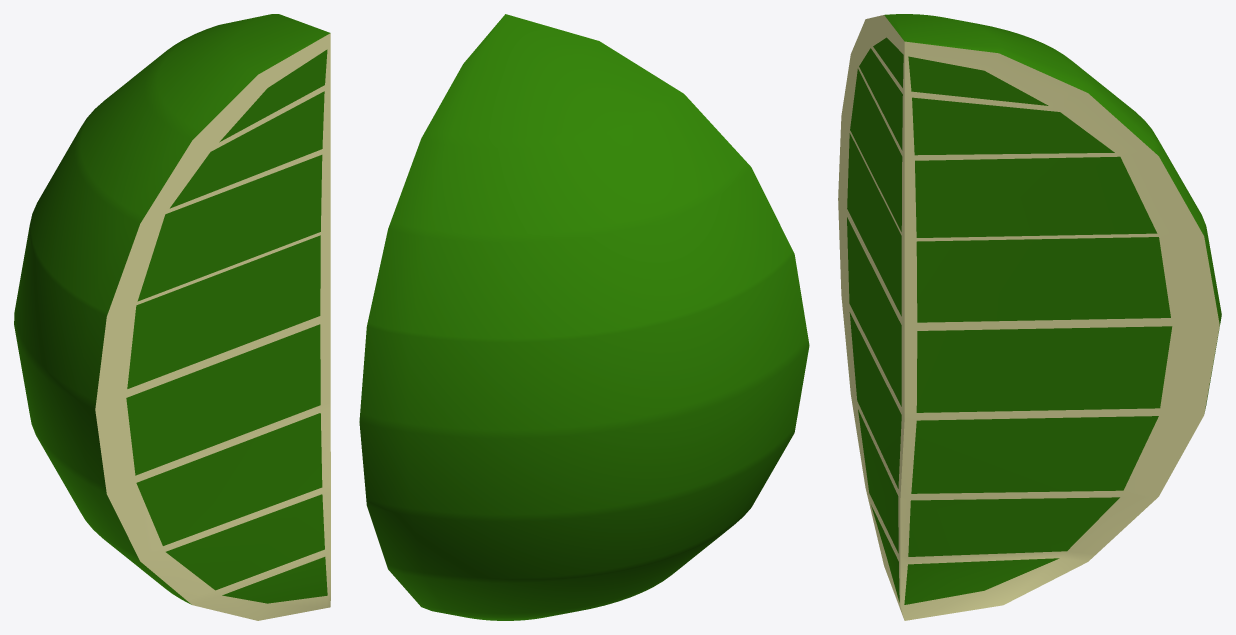
Rendered from quart_citron_vert.FBX.
The picture shows the model from 3 angles, left to right: view 1: azimuth 30°, elevation 25°; view 2: azimuth 150°, elevation 25°; view 3: azimuth 270°, elevation 25°; orthographic projection.
Visible parts, largest first — view 1: Quart_vert; view 2: Quart_vert; view 3: Quart_vert.
Boxes of the visible parts, left/top/right/bottom form: Quart_vert: left=14, top=14, right=330, bottom=620; Quart_vert: left=359, top=14, right=809, bottom=620; Quart_vert: left=838, top=14, right=1221, bottom=620.
Size of the model in its own units: 23.64 by 47.32 by 28.4.
